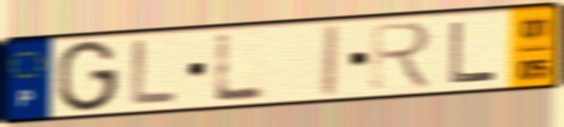G: (54, 38, 121, 115)
I: (316, 21, 344, 101)
L: (210, 31, 269, 105), (127, 36, 180, 107), (447, 19, 500, 85)
R: (368, 19, 436, 92)
